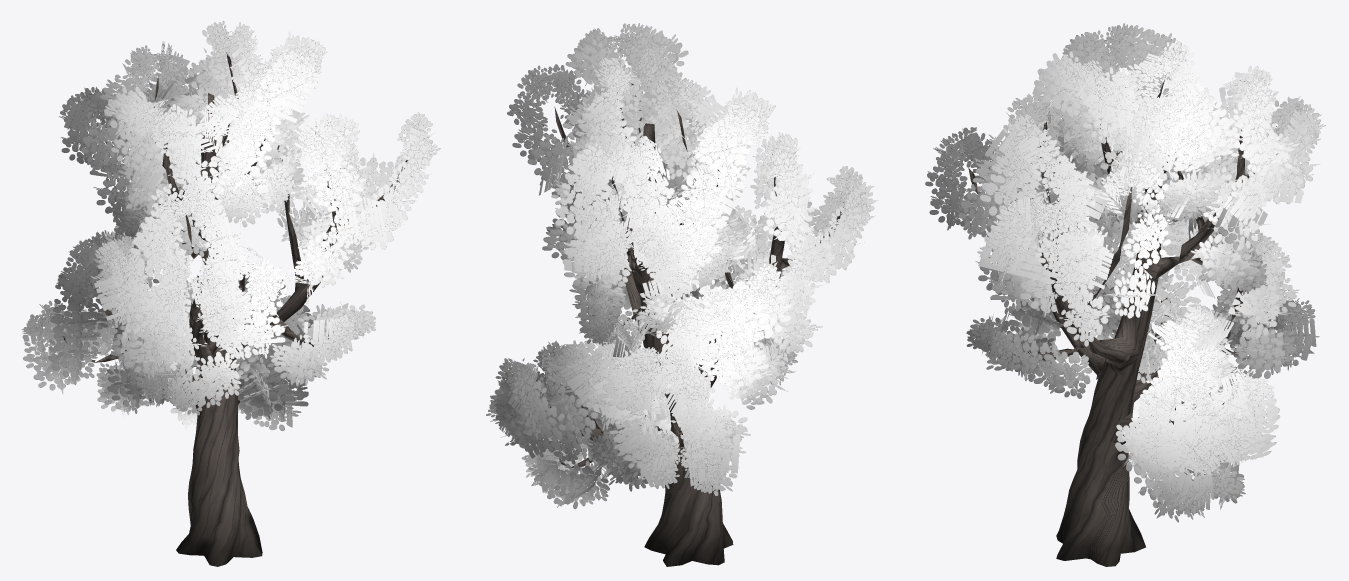
The model's file is TwistedTree_3.glb.
The picture shows the model from 3 angles, left to right: view 1: azimuth 30°, elevation 25°; view 2: azimuth 150°, elevation 25°; view 3: azimuth 270°, elevation 25°; orthographic projection. The views are drawn at different scales.
Visible parts, largest first — view 1: TwistedTree_3; view 2: TwistedTree_3; view 3: TwistedTree_3.
Part boxes in pixels (x1,y1,x2,y2): TwistedTree_3: [21, 21, 440, 566]; TwistedTree_3: [486, 23, 878, 566]; TwistedTree_3: [925, 23, 1326, 566].
Size of the model in its own units: 11.36 by 16.07 by 11.51.
2 materials, 2 textured.
